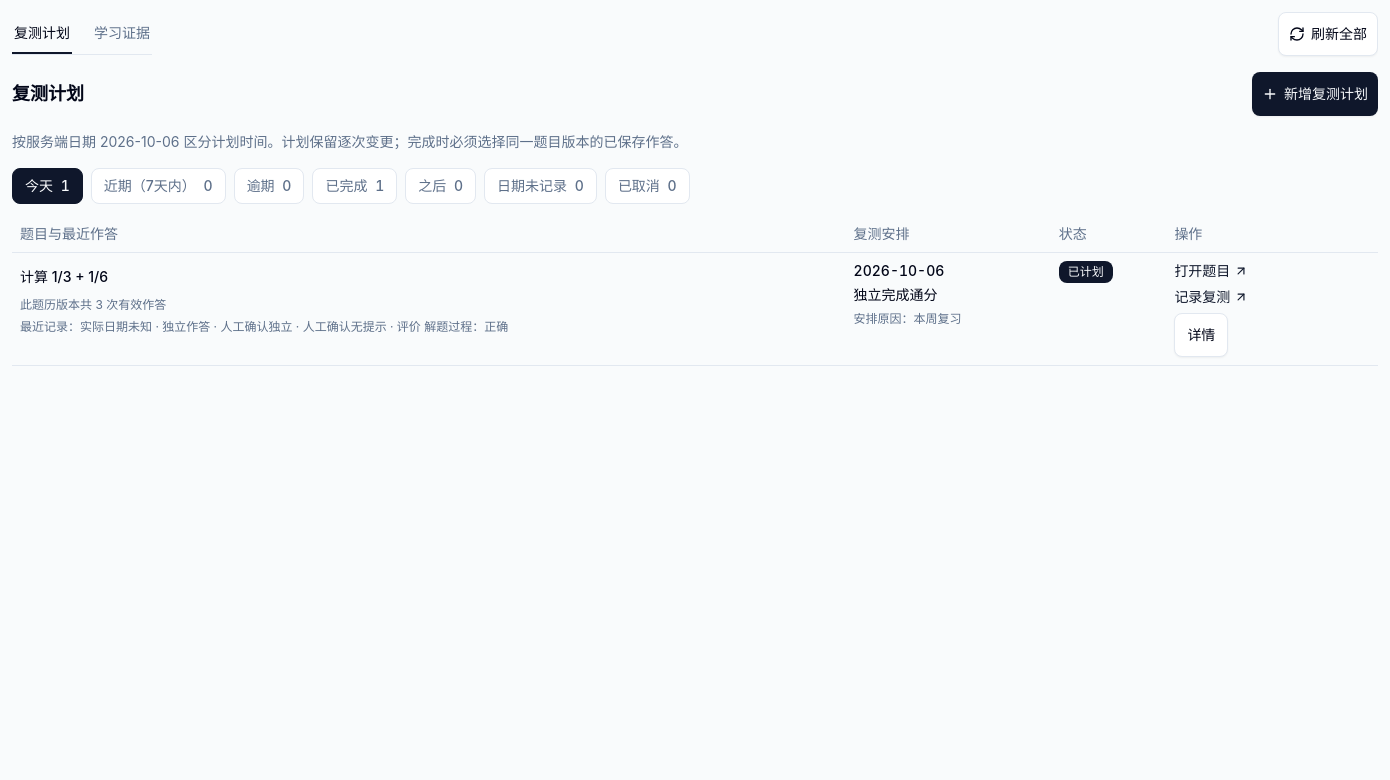
it: ProgressWorkspace › keeps materials processing out of learner progress and reads only learner evidence and schedules
The image size is (1390, 780).
Click the tab "学习证据": (122,34) [92,14,152,54]
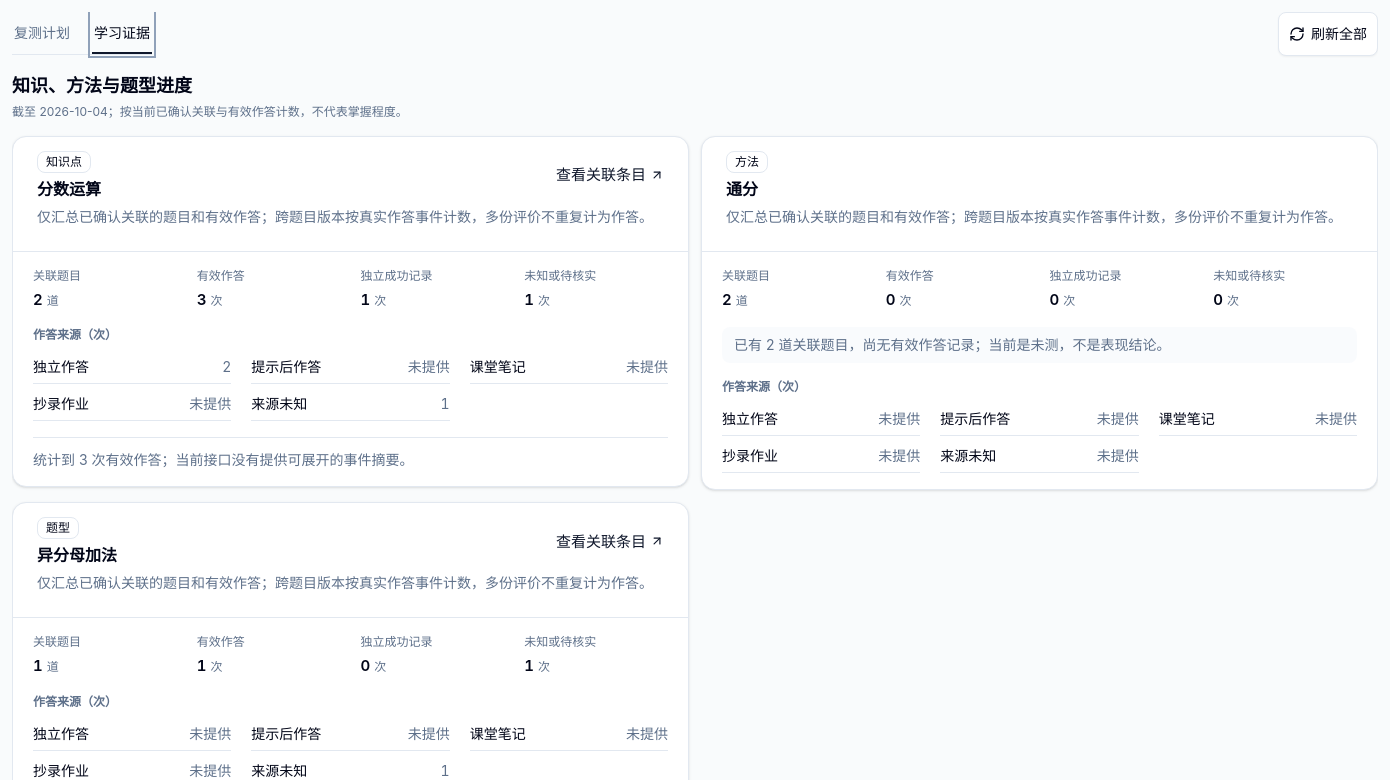
expect the heading "知识、方法与题型进度" is shown: met, box [12,75,192,96]
expect the text "分数运算" is shown: met, box [37,177,101,201]
expect the text "异分母加法" is shown: met, box [37,543,117,567]
Click the tab "复测计划": (42,34) [12,14,72,54]
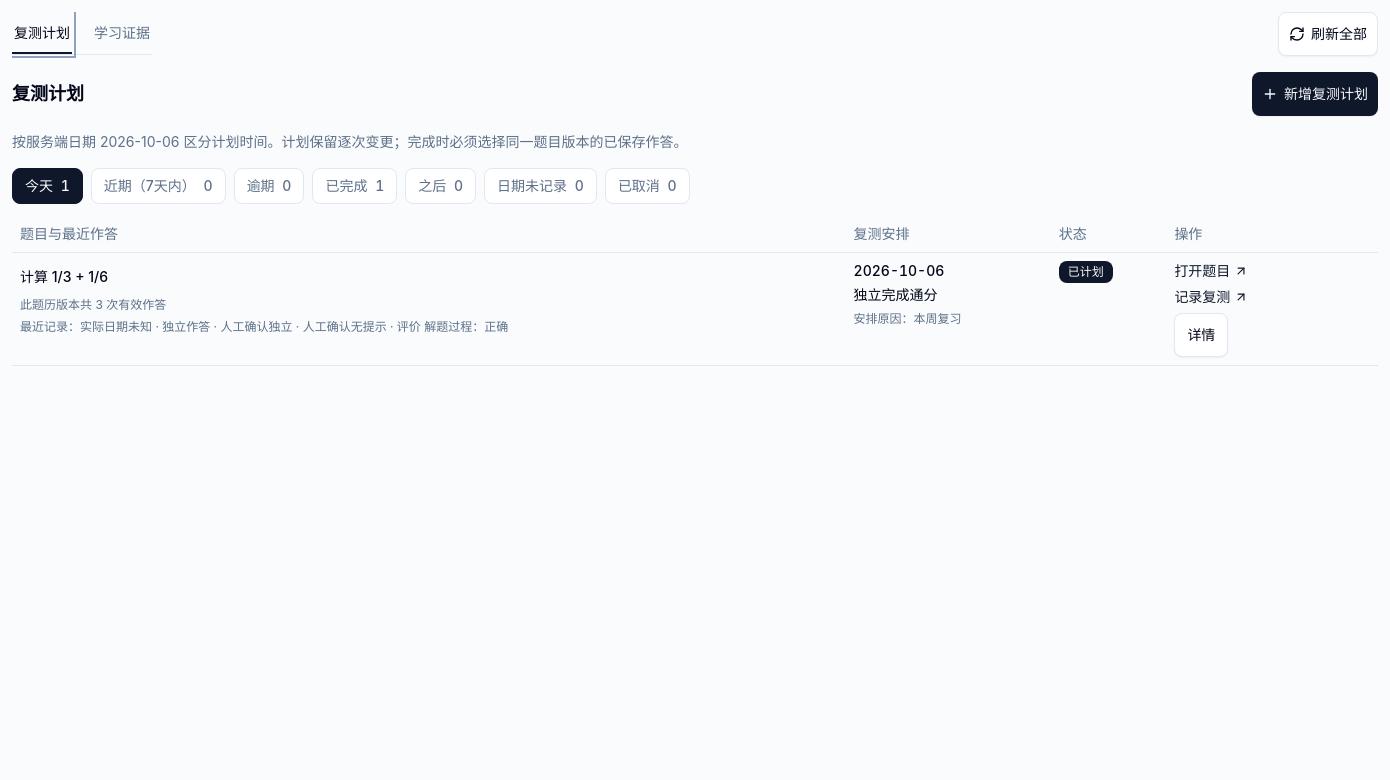
expect the button "详情" is shown: met
Click the button "详情": (1201,335) [1174,313,1228,357]
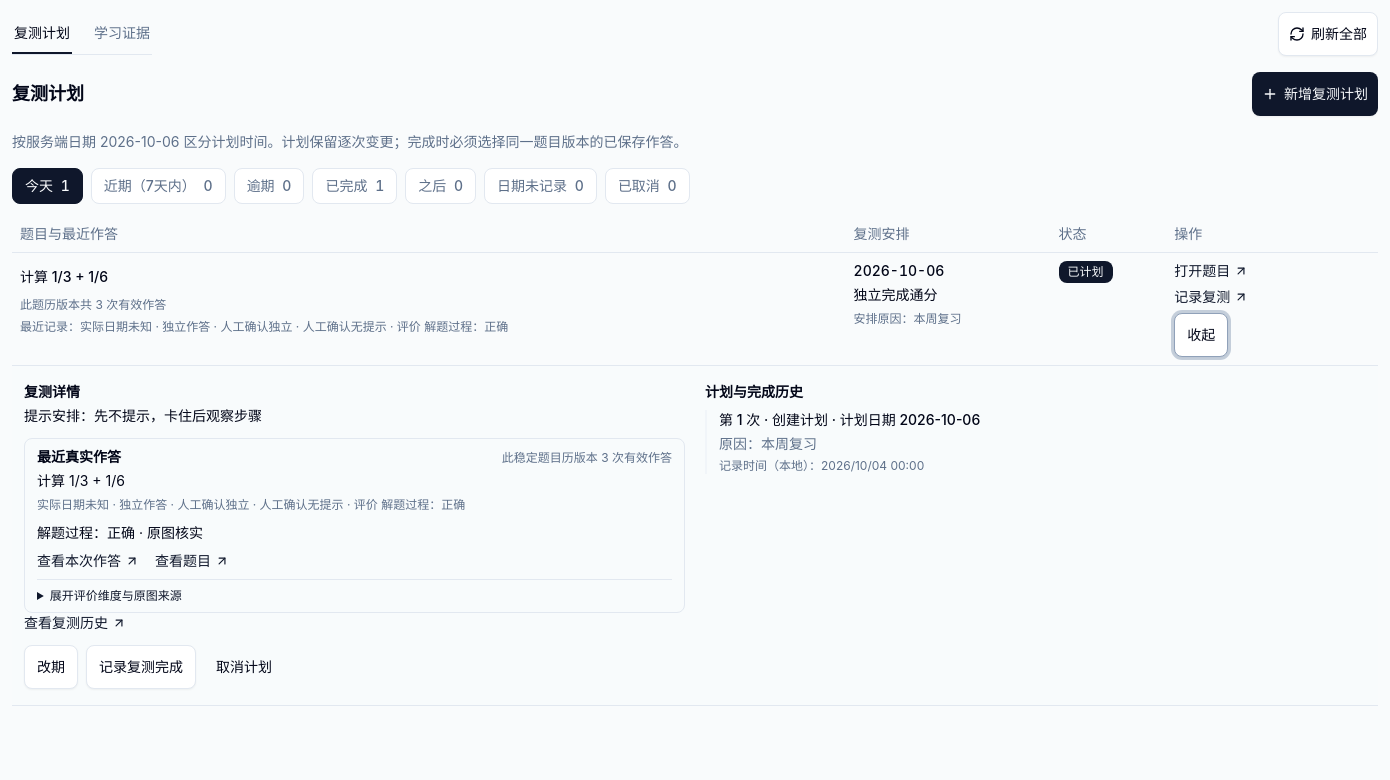
expect the text "最近记录：实际日期未知 · 独立作答 · 人工确认独立 · 人工确认无提示 · 评价 解题过程：正确" is shown: met, box [20,319,508,334]
expect the list item "解题过程：正确 · 原图核实" is shown: met, box [37,524,203,541]
Click the tab "学习证据": (122,34) [92,14,152,54]
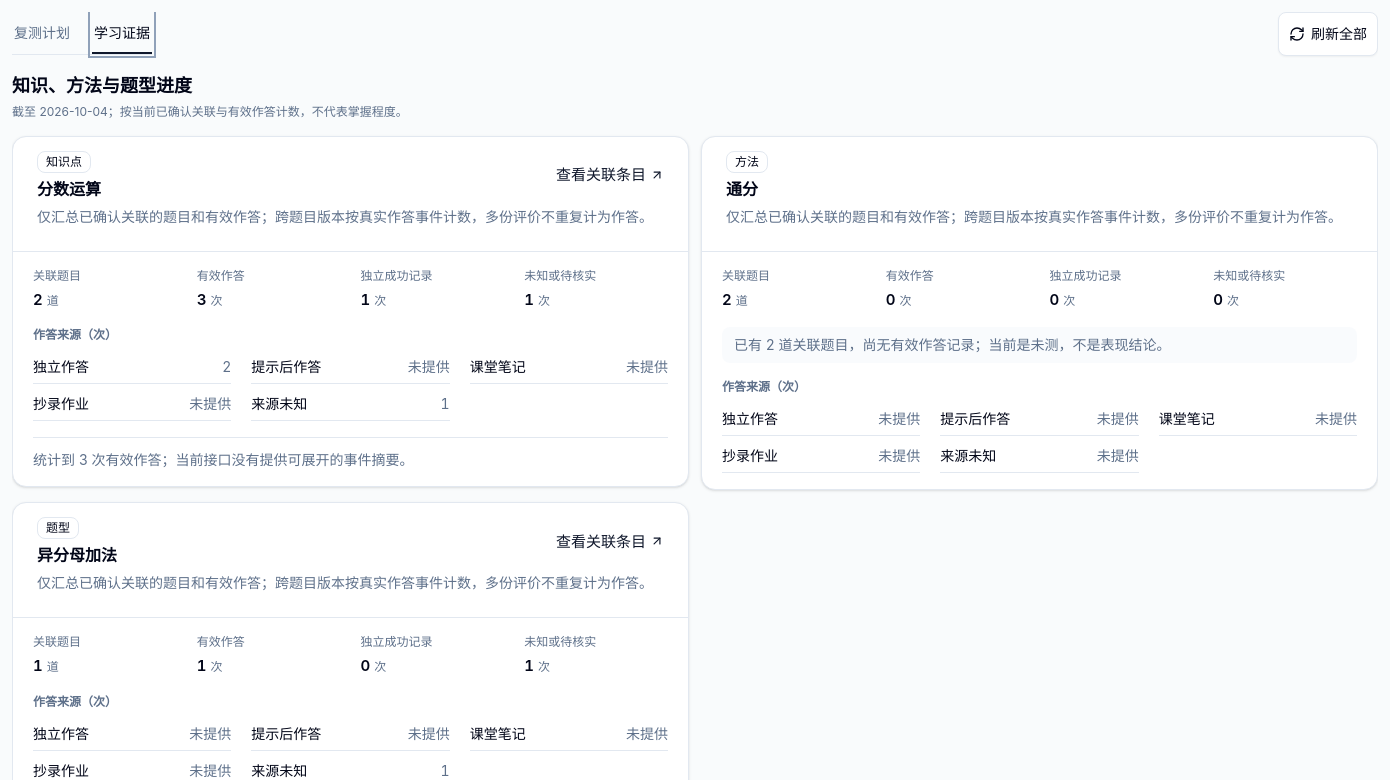
expect the heading "知识、方法与题型进度" is shown: met, box [12,75,192,96]
